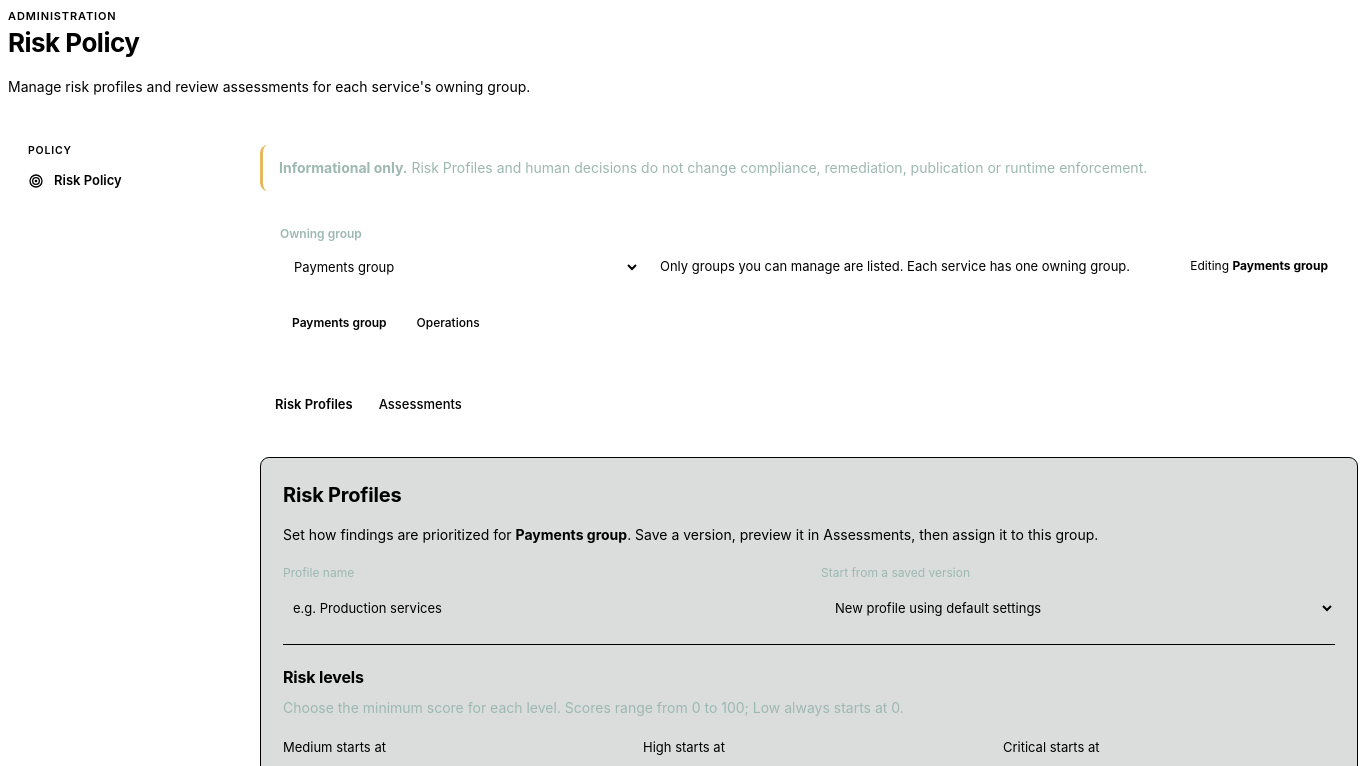
Test: offers quick group picks that select the same group as the Owning group field
Click the button "Assessments": (420, 405) [367,390,474,420]
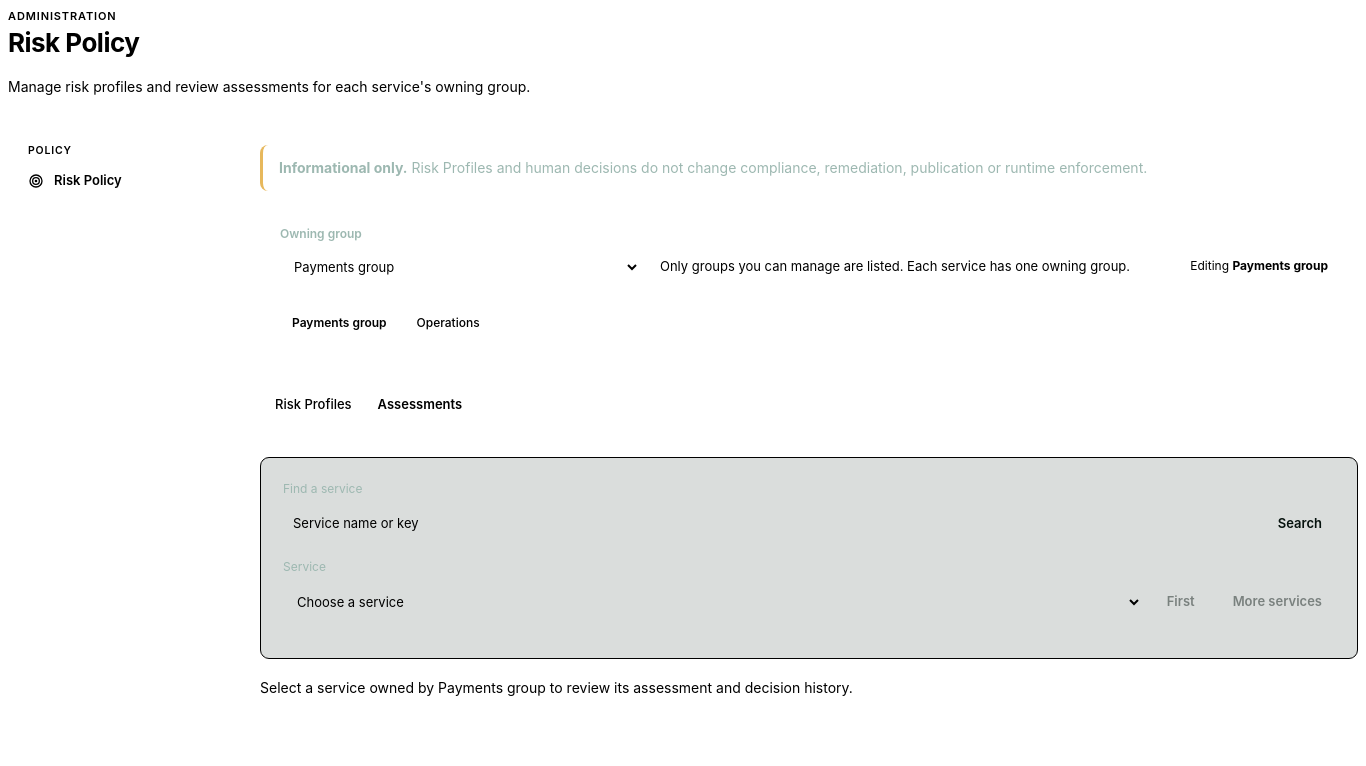
Select "Payments" in the dropdown labelled "Service": (712, 602) [283,584,1142,620]
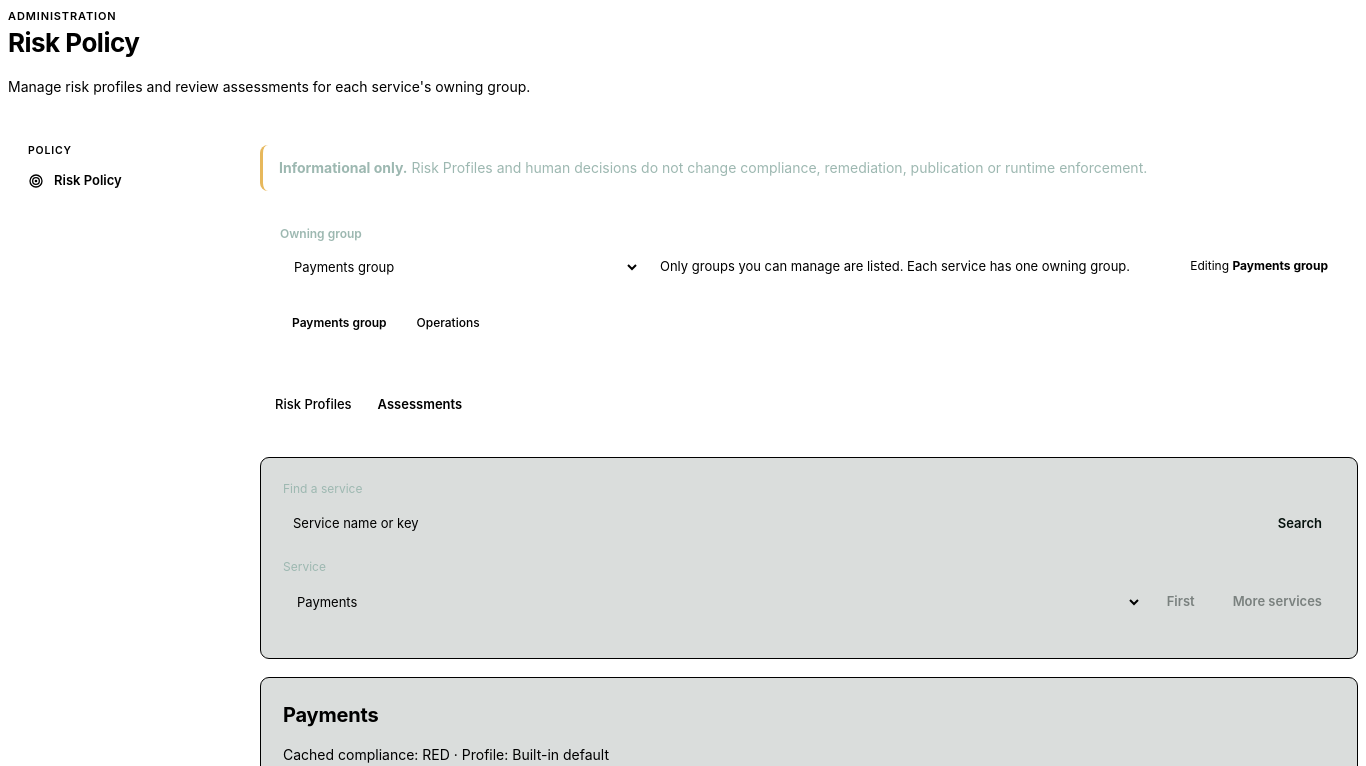
Expected: the heading "Payments" is shown, [283,703,378,727]
Click the button "Operations": (448, 323) [404,309,492,337]
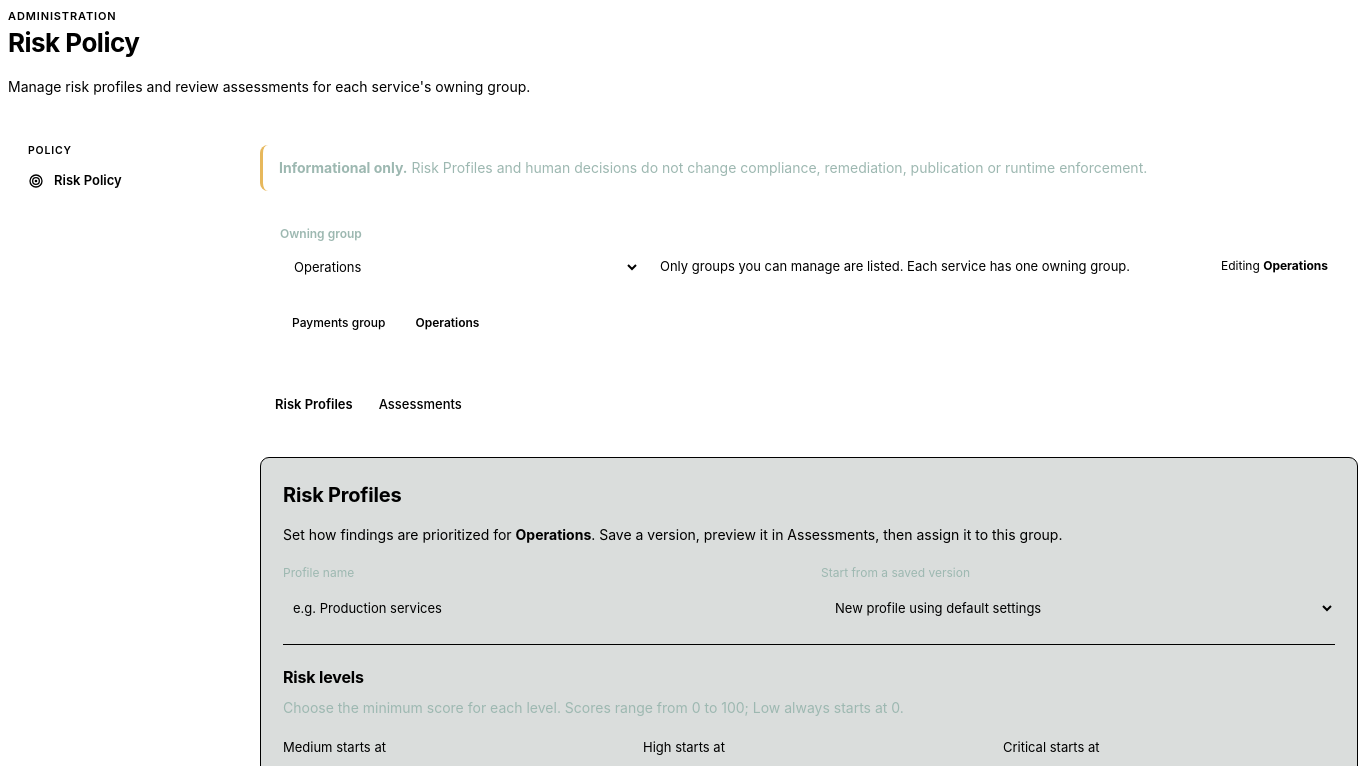
Expected: the dropdown labelled "Owning group" shows "Operations", [280,249,640,285]
